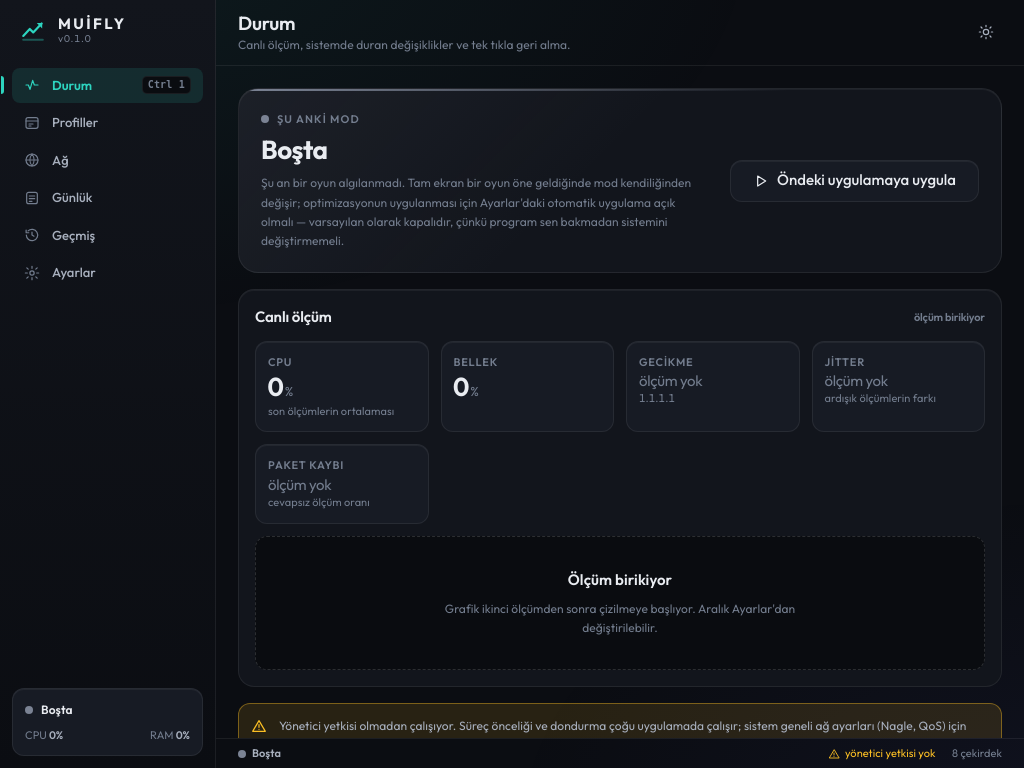
Scenario: App — profil içe/dışa aktarma › kimlik çakışmasında varsayılan üzerine yazmamak
Expected: the button "Durum Ctrl 1" is shown, 12,68 -> 203,103
Click the button "Profiller" at (108, 123), box 12,105 -> 203,140
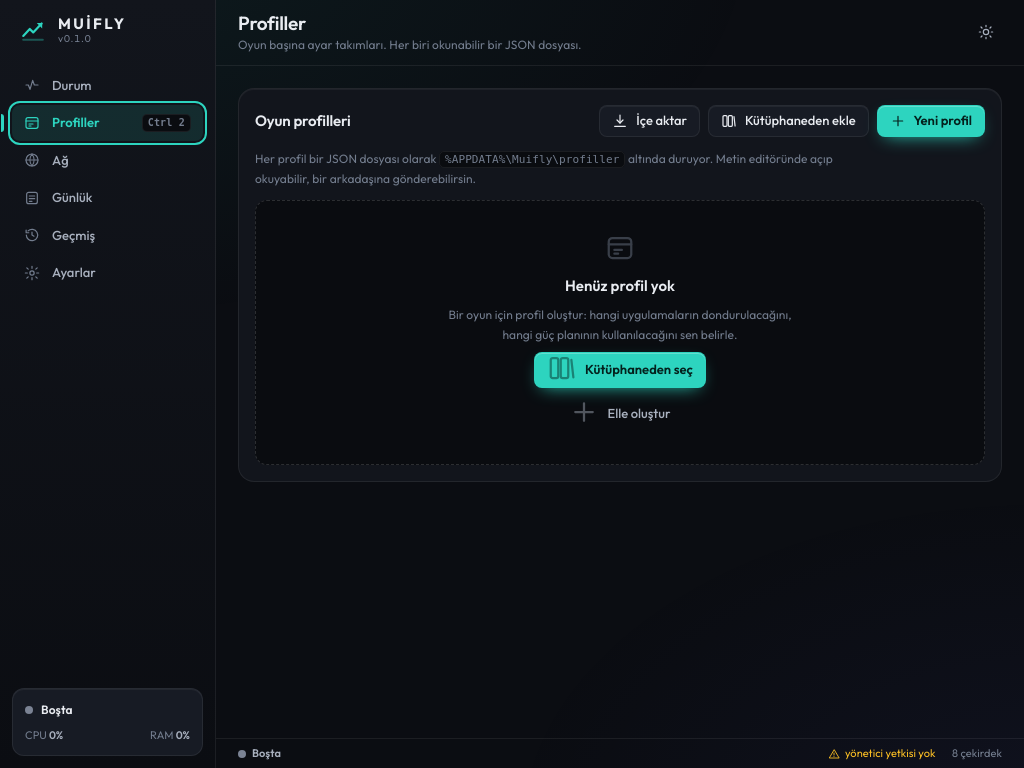
Click the button "İçe aktar" at (650, 121), box 599,105 -> 700,137
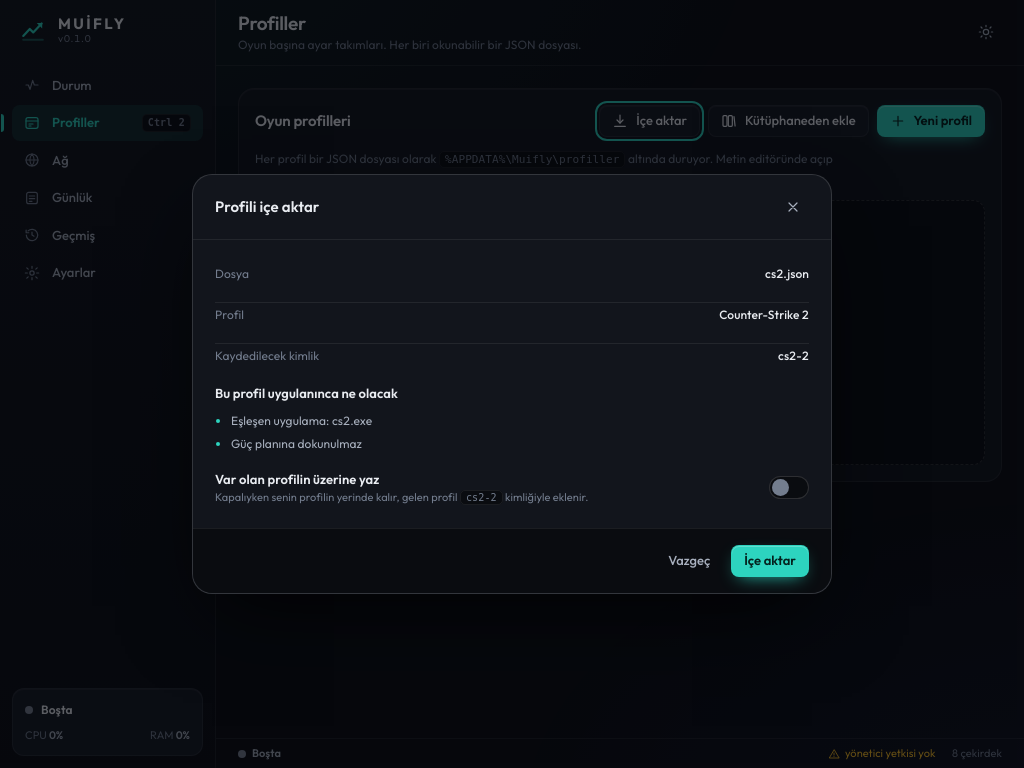
Expected: the text "cs2-2" in the row of "Kaydedilecek kimlik" is shown, 778,348 -> 809,363
